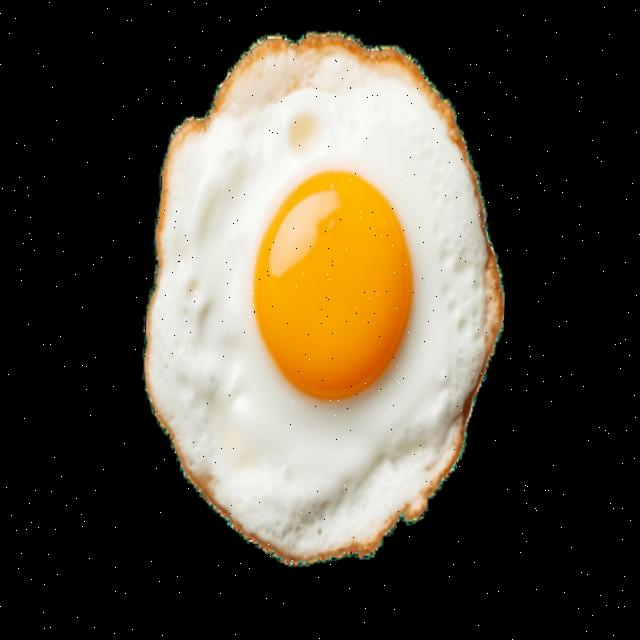Egg: (142, 37, 502, 564)
